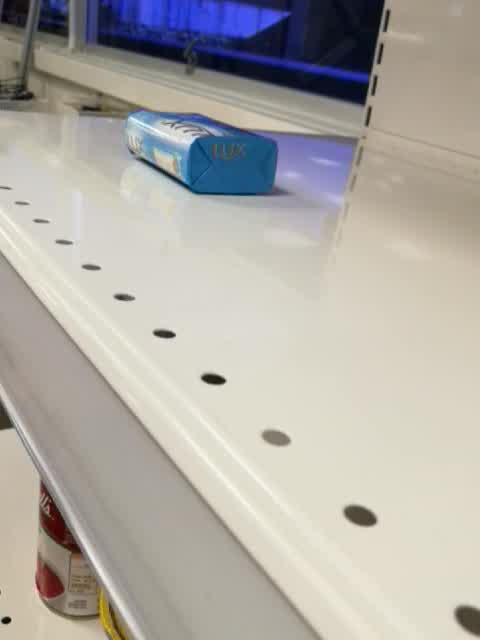soap: (122, 108, 279, 199)
